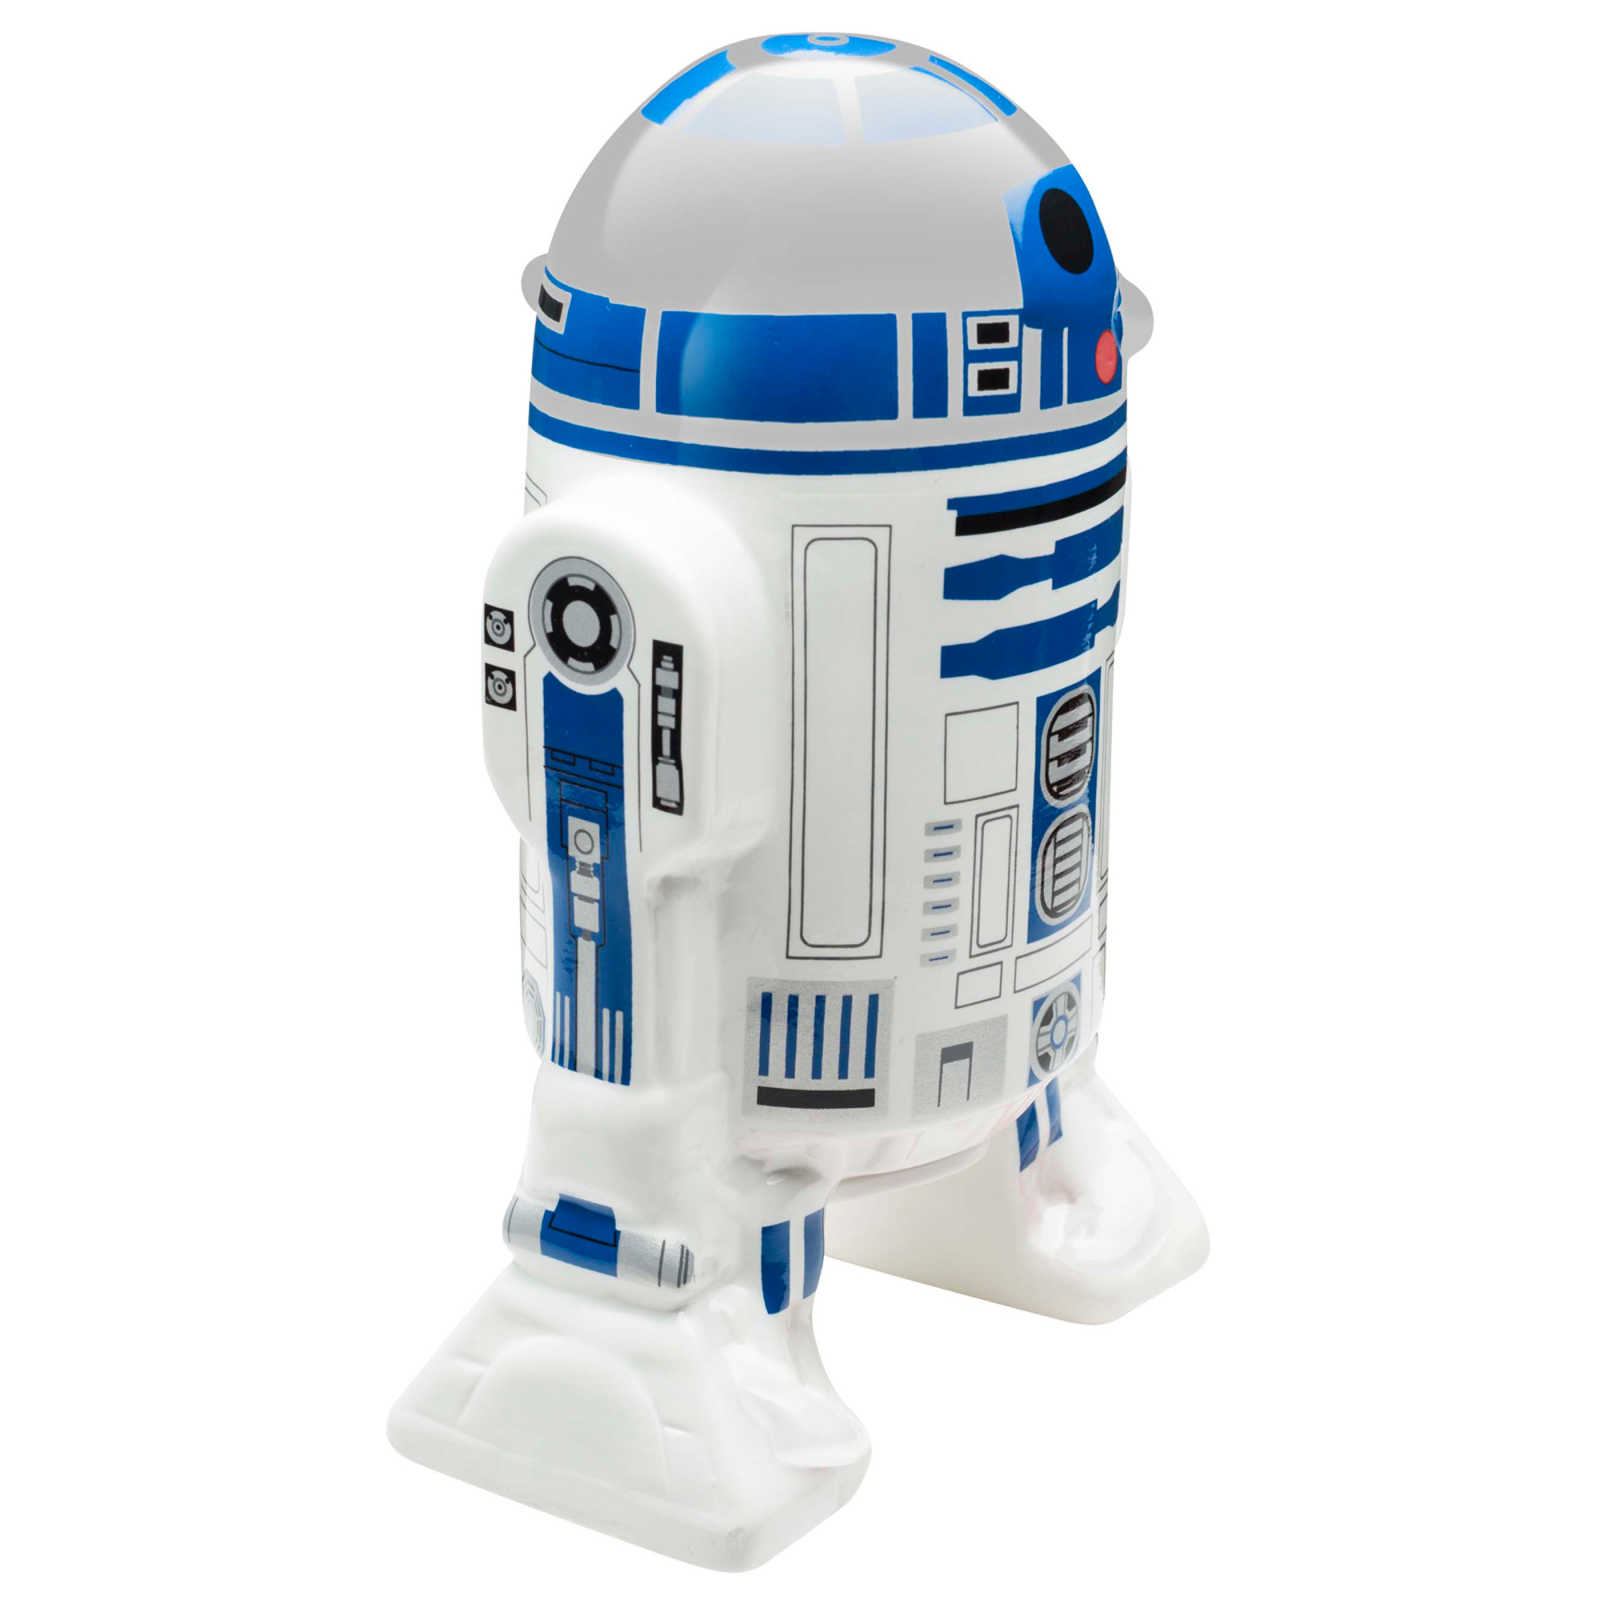r2d2: (385, 29, 1212, 1541)
